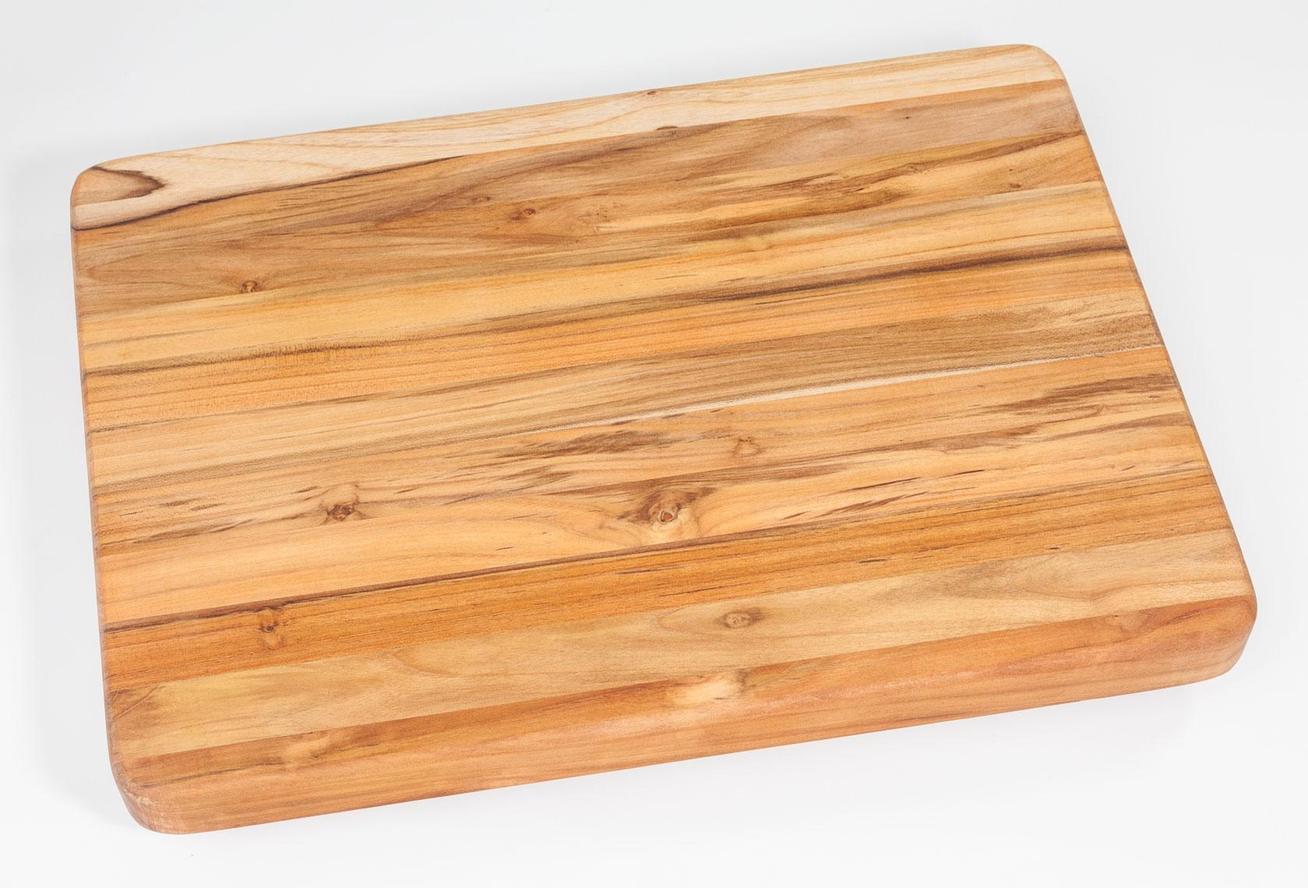gloved_hand: (59, 37, 1267, 841)
